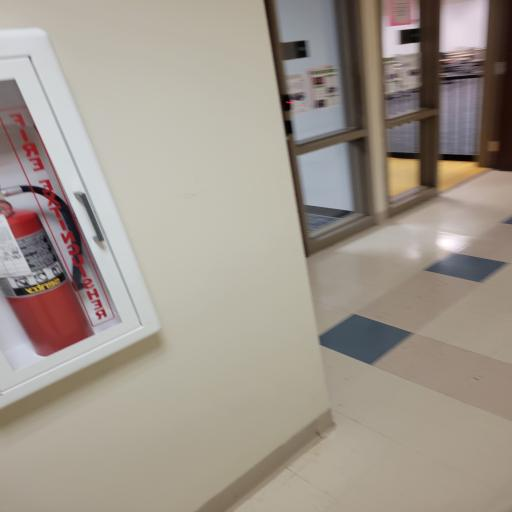fire extinguisher: (0, 0, 180, 415)
